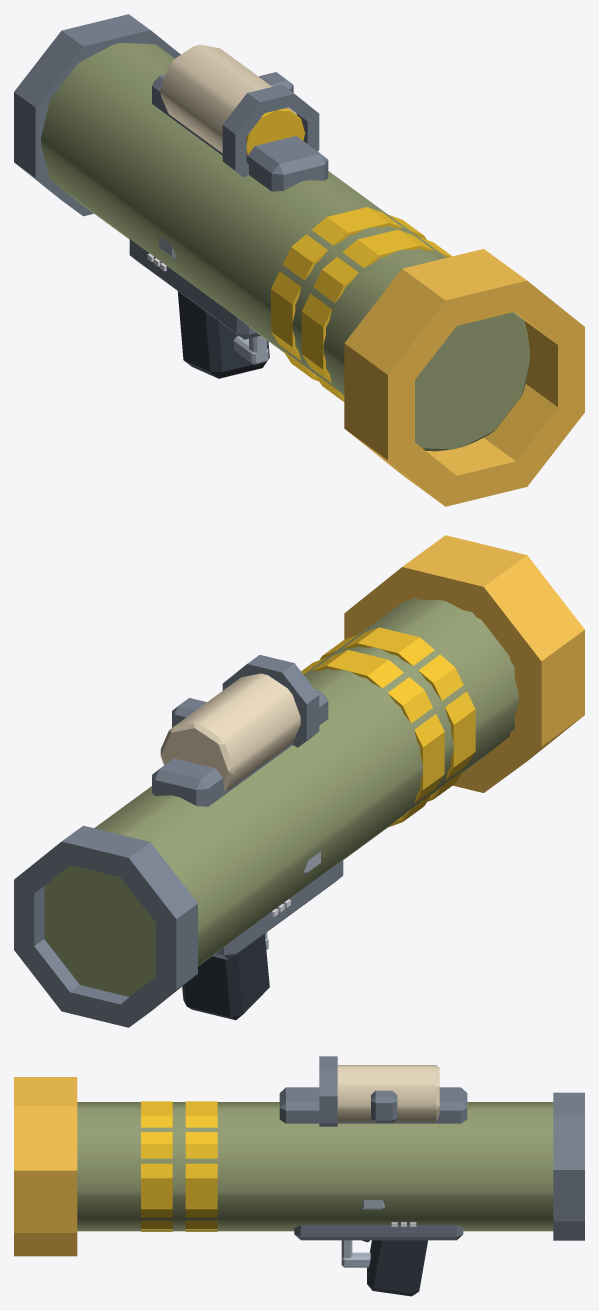
File: Military_RL_v001.fbx
3 renders of one model, top to bottom at view 1: azimuth 30°, elevation 25°; view 2: azimuth 150°, elevation 25°; view 3: azimuth 270°, elevation 25°, orthographic. The views are drawn at different scales.
Visible parts, largest first — view 1: Military_RL__RECEIVER_MESH; view 2: Military_RL__RECEIVER_MESH; view 3: Military_RL__RECEIVER_MESH.
Part boxes in pixels (box(x1,y1,x2,y2)): Military_RL__RECEIVER_MESH: box(14, 14, 584, 506); Military_RL__RECEIVER_MESH: box(14, 535, 584, 1027); Military_RL__RECEIVER_MESH: box(14, 1056, 584, 1296).
Bounding box in the file's own units: 0.6282 × 0.9434 × 2.16.
